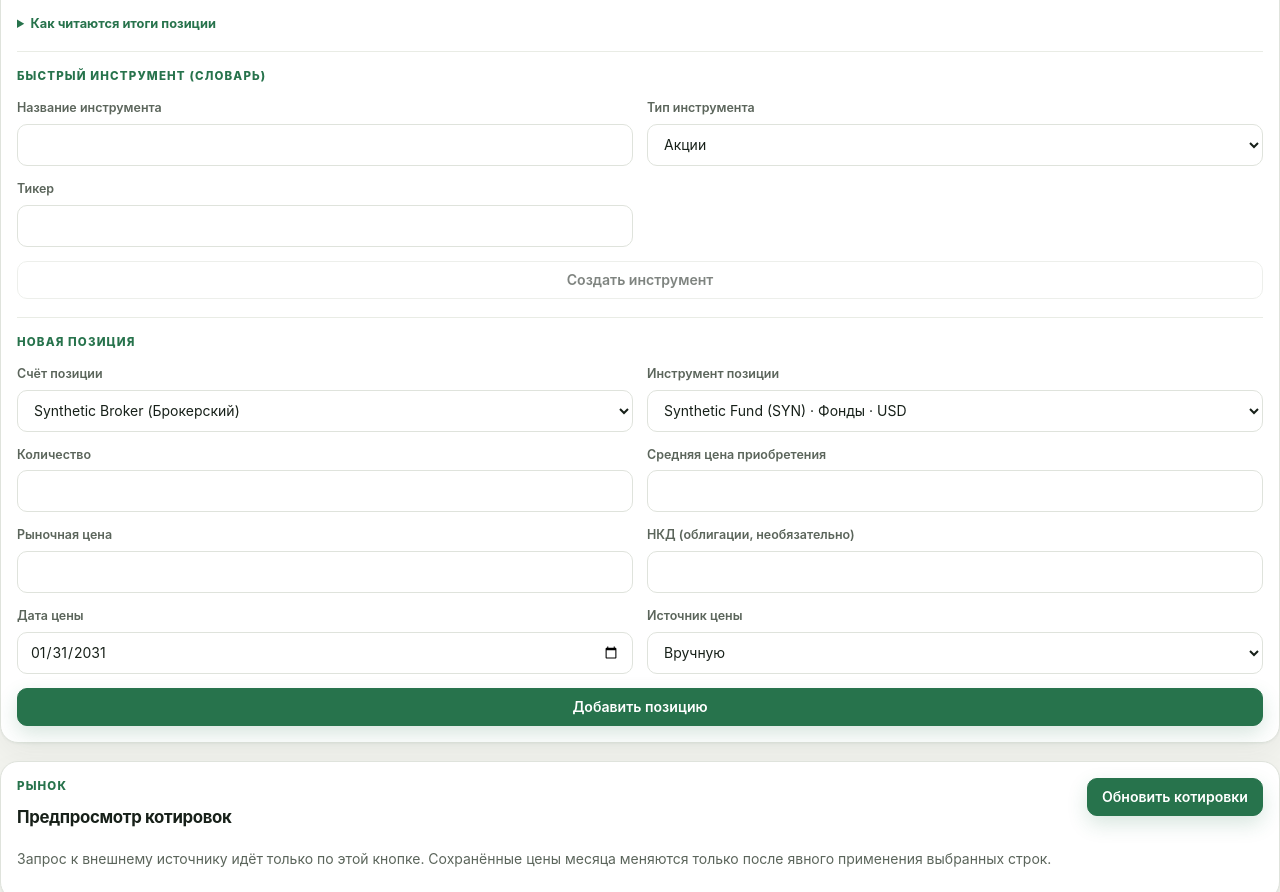
Test case: native month positions leaf › creates a fractional position through canonical RUB API and confirms a month-scoped readback
The image size is (1280, 892).
(page scrolled)
Type "0.5" into the field labelled "Количество". click: (325, 491)
box: [17, 470, 633, 512]
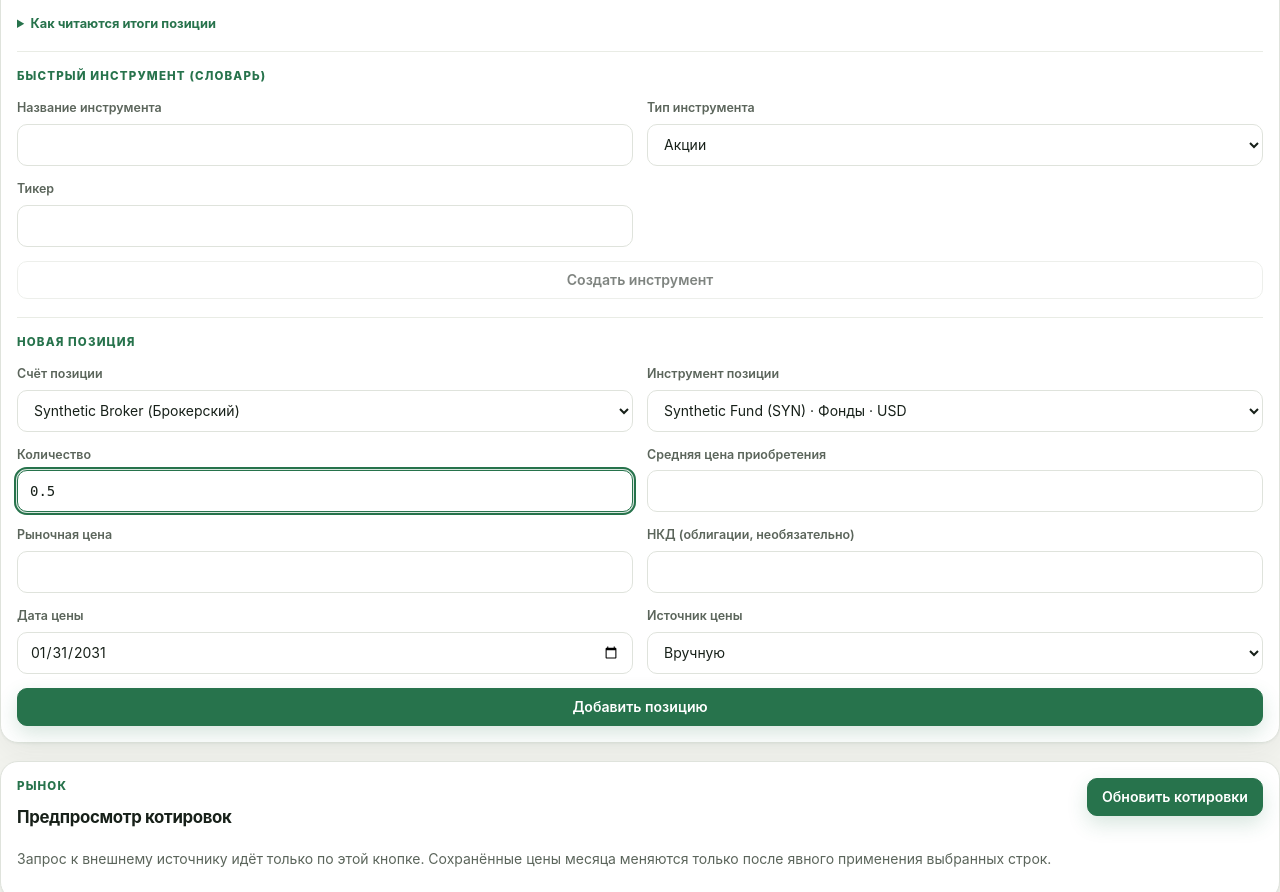
Type "1000" into the field labelled "Средняя цена приобретения". click: (955, 491)
box: [647, 470, 1263, 512]
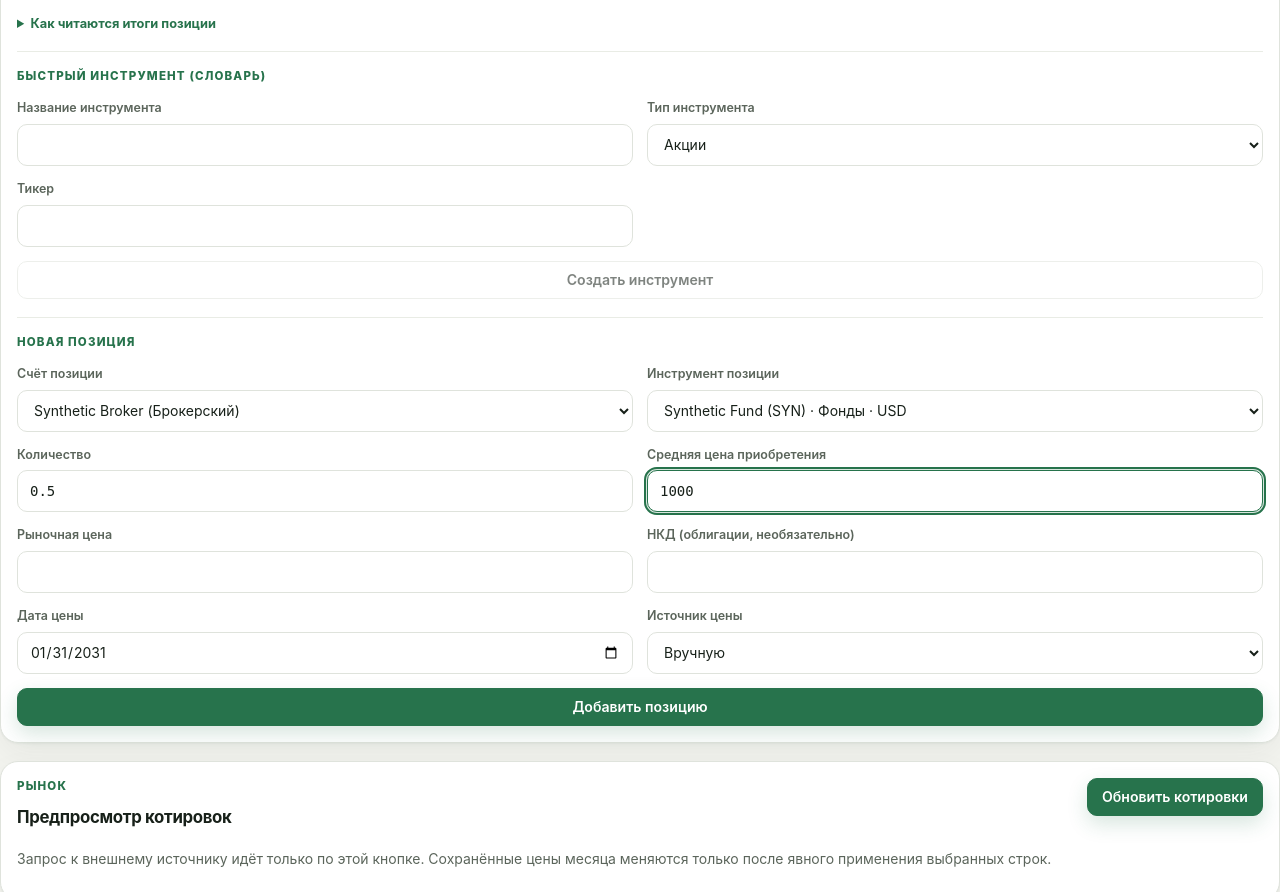
Type "1100" into the field labelled "Рыночная цена". click: (325, 572)
box: [17, 551, 633, 593]
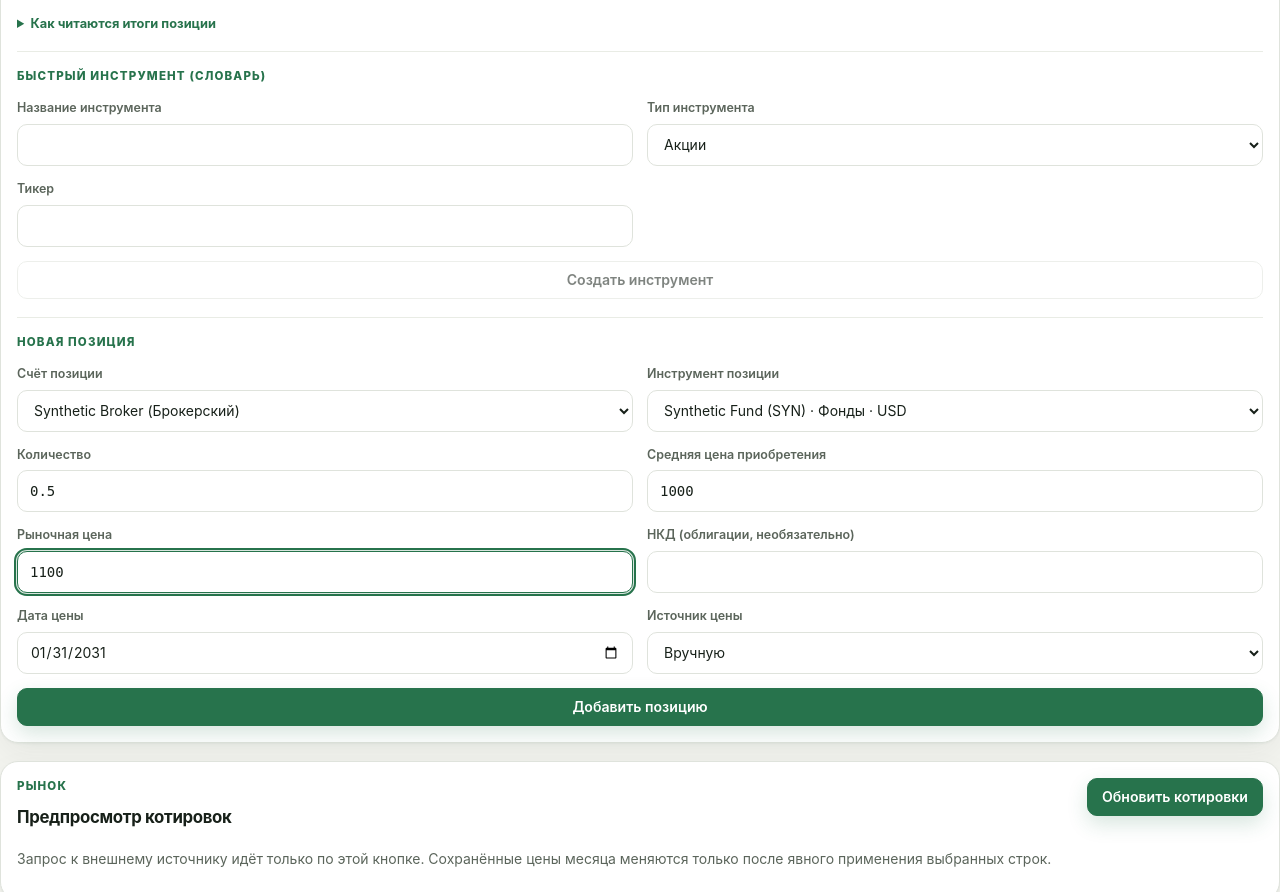
Click the button "Добавить позицию". click: (640, 707)
box: [17, 688, 1263, 726]
(page scrolled)
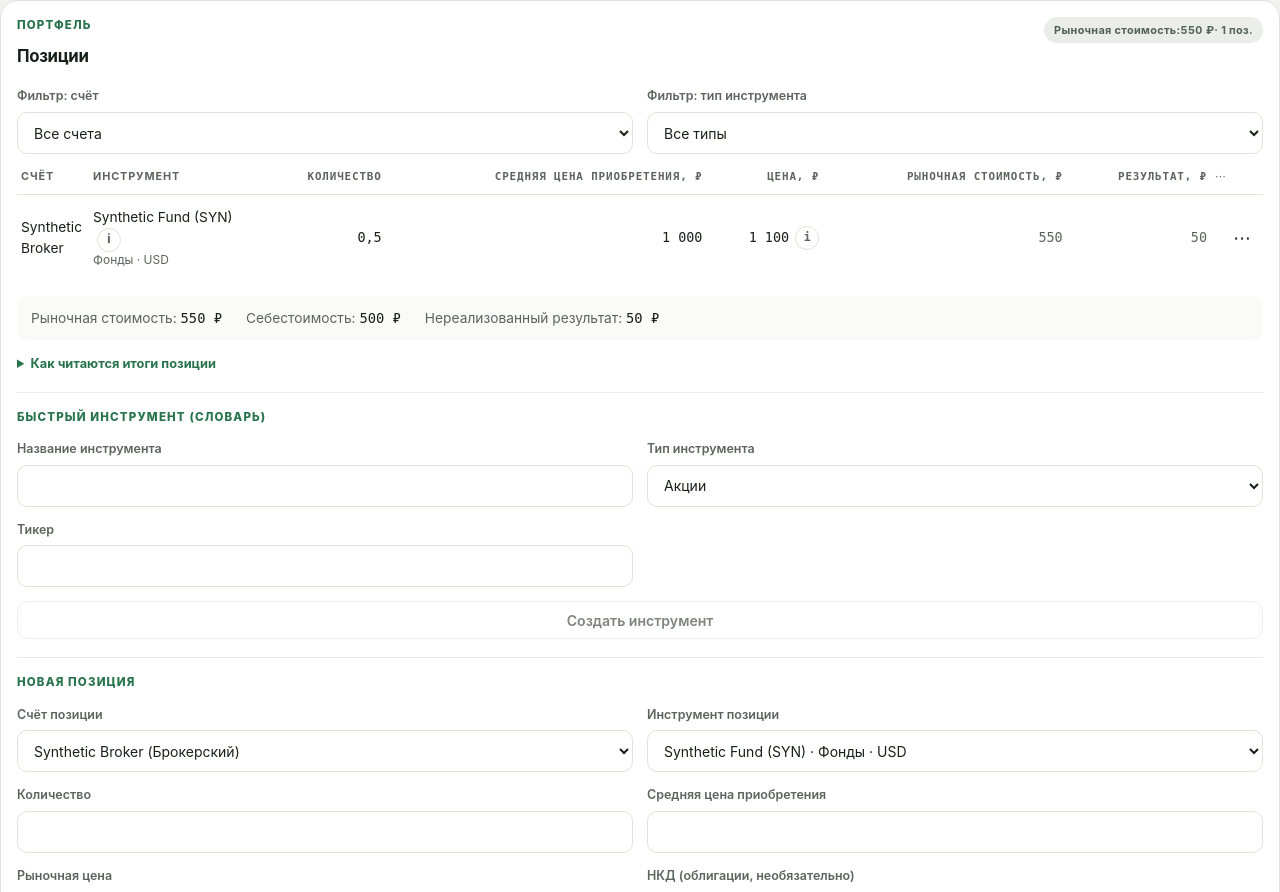
Result: the text "Synthetic Fund (SYN)" is shown at [93, 210, 233, 226]
